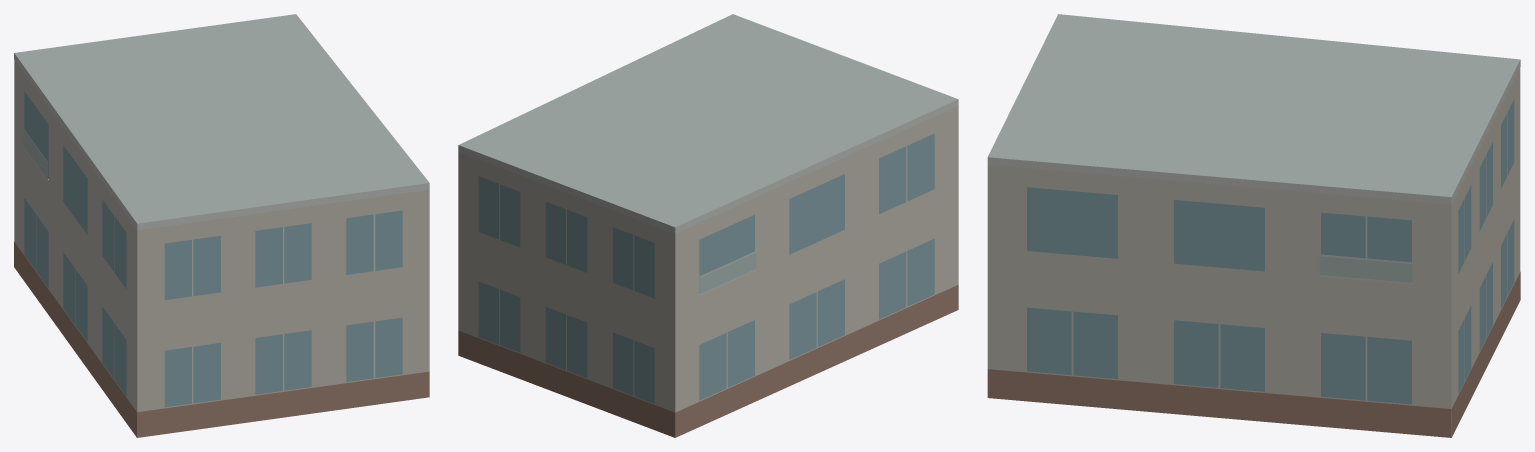
Rendered from survey-upis-32943939.glb.
The picture shows the model from 3 angles, left to right: view 1: azimuth 30°, elevation 25°; view 2: azimuth 150°, elevation 25°; view 3: azimuth 270°, elevation 25°; orthographic projection. The views are drawn at different scales.
Visible parts, largest first — view 1: survey-upis-32943939.tmp; view 2: survey-upis-32943939.tmp; view 3: survey-upis-32943939.tmp.
Boxes of the visible parts, bbox=[...] form: survey-upis-32943939.tmp: bbox=[14, 14, 429, 437]; survey-upis-32943939.tmp: bbox=[458, 14, 958, 437]; survey-upis-32943939.tmp: bbox=[987, 14, 1520, 437].
Bounding box in the file's own units: 12.9 × 7.9 × 15.86.
